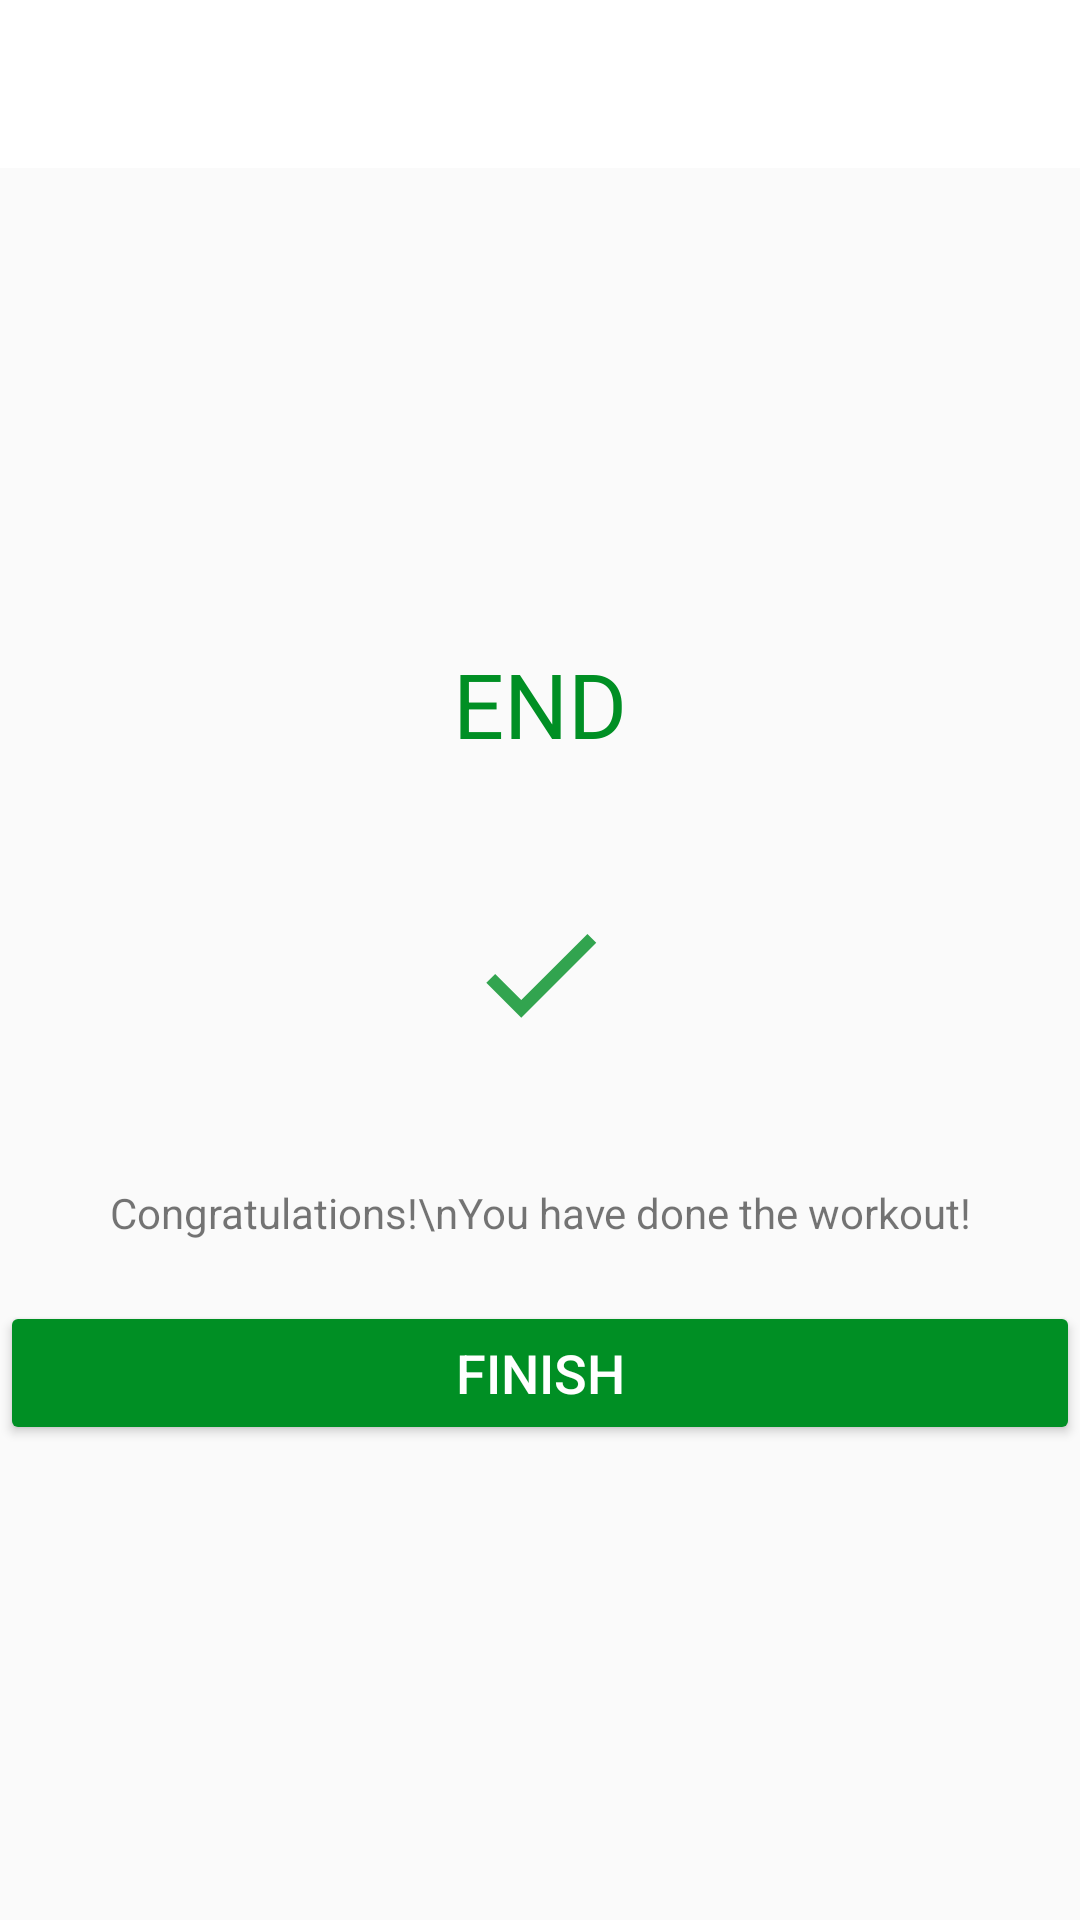

Locate icon controls on the screen. Image size 1080w x 1920h, boxes as (x1, y1, x2, y2).
check: (486, 934, 596, 1018)
